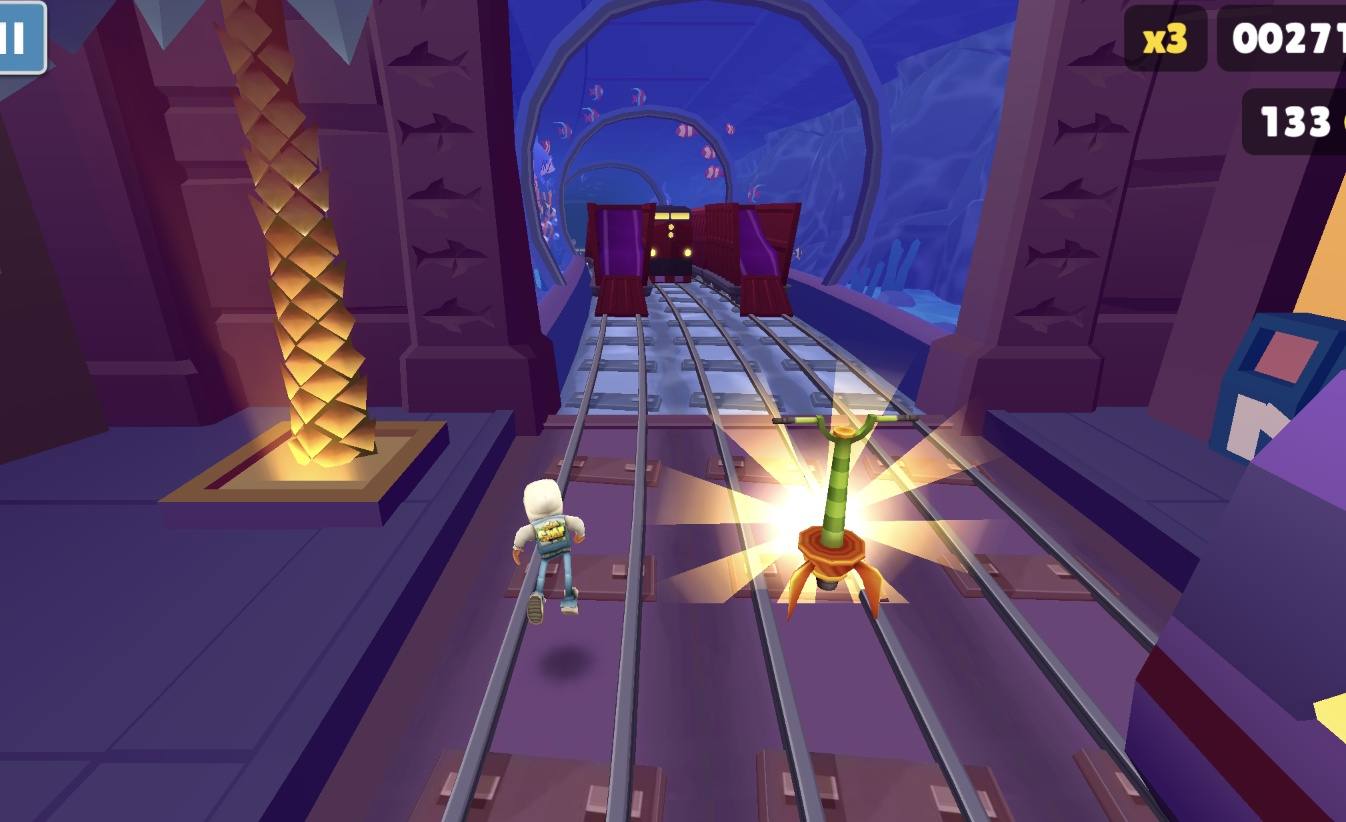train: (690, 202, 802, 321), (585, 201, 655, 318), (649, 204, 696, 286)
